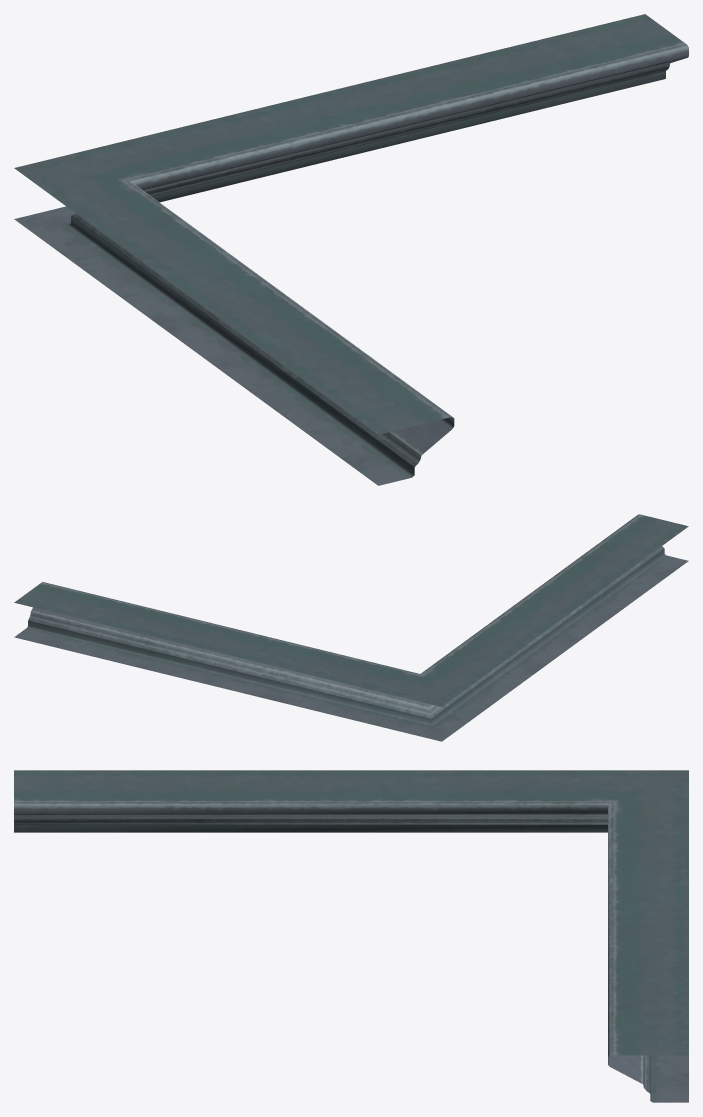
Rendered from TrimV2_Corner.fbx.
3 renders of one model, top to bottom at view 1: azimuth 30°, elevation 25°; view 2: azimuth 150°, elevation 25°; view 3: azimuth 270°, elevation 25°, orthographic. The views are drawn at different scales.
Parts seen in each view (by area): view 1: TrimV2_Corner; view 2: TrimV2_Corner; view 3: TrimV2_Corner.
Boxes of the visible parts, bbox=[...] form: TrimV2_Corner: bbox=[14, 14, 688, 485]; TrimV2_Corner: bbox=[14, 514, 688, 741]; TrimV2_Corner: bbox=[14, 770, 688, 1102].
Bounding box in the file's own units: 500 × 38.65 × 500.
Materials: 1 (1 with a texture image).
